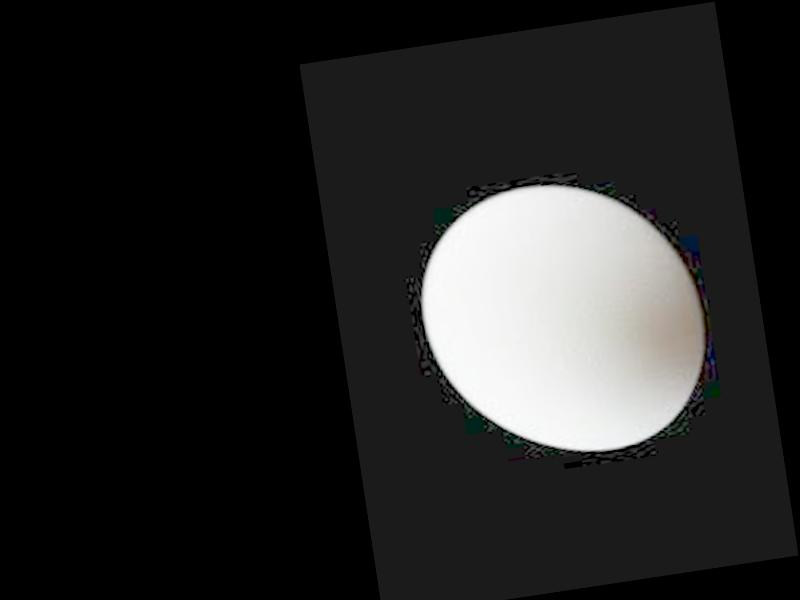Eggs: (407, 166, 715, 474)
